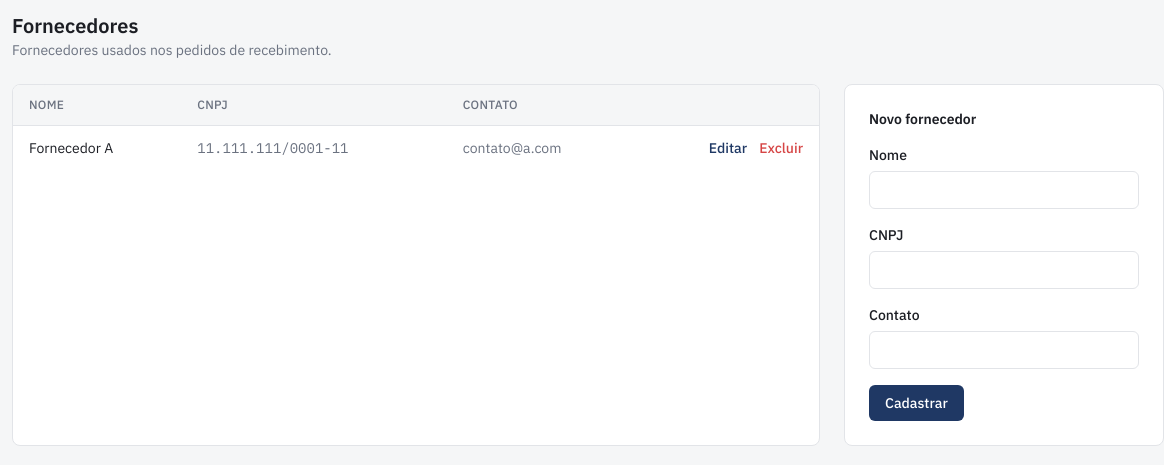
Test: FornecedoresPage › edita um fornecedor existente e depois cancela a edição
This screenshot has width=1164, height=465.
Click the button "Editar" at (728, 148), box [709, 138, 747, 158]
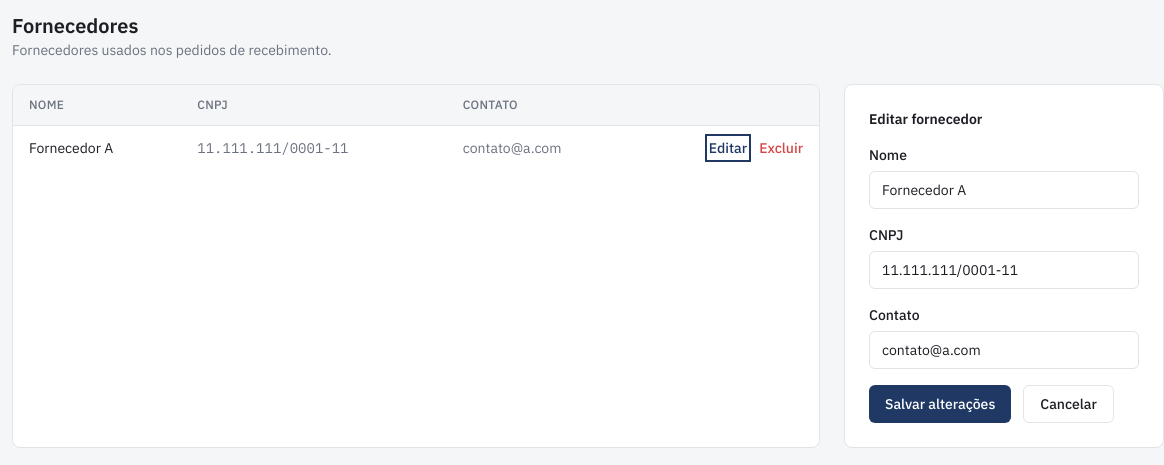
Check: the heading "Editar fornecedor" is shown, box [869, 110, 982, 128]
Click the button "Cancelar" at (1069, 404), box [1023, 385, 1114, 423]
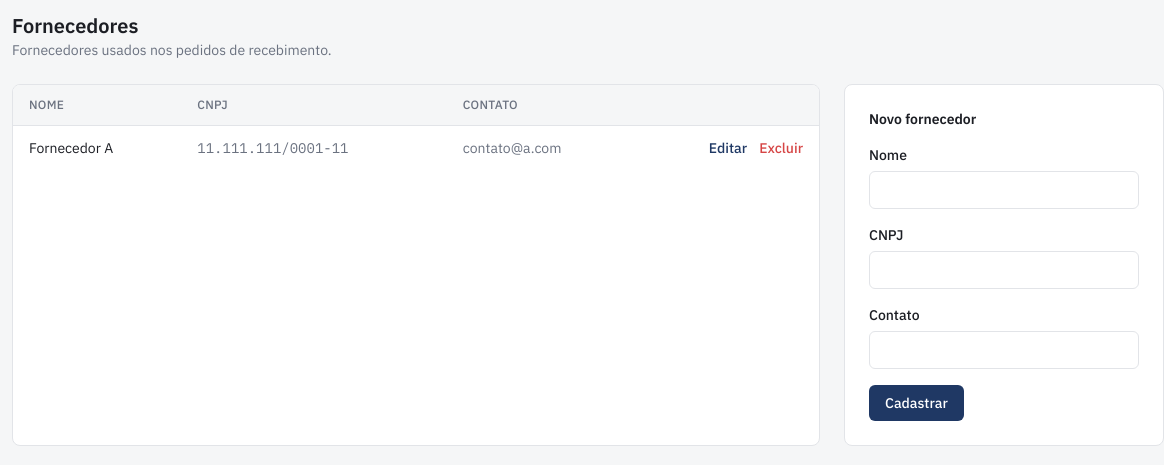
Check: the heading "Novo fornecedor" is shown, box [869, 110, 976, 128]
Check: the field labelled "Nome" is empty, box [869, 171, 1139, 209]
